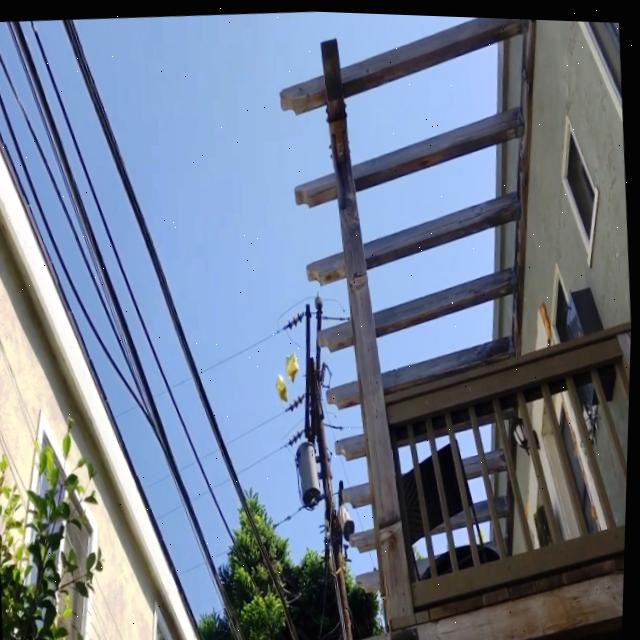obstruction: (287, 345, 301, 382), (277, 369, 291, 400)
poles: (284, 288, 358, 640)
wires: (205, 325, 282, 369), (230, 410, 286, 441), (241, 440, 292, 471), (273, 502, 310, 527), (159, 500, 185, 519), (117, 401, 141, 416), (150, 470, 173, 485), (217, 544, 233, 563), (175, 374, 194, 386), (182, 458, 198, 471), (201, 446, 218, 458), (183, 562, 203, 572), (196, 488, 210, 498), (217, 476, 232, 485), (156, 387, 169, 394), (294, 423, 303, 428)
